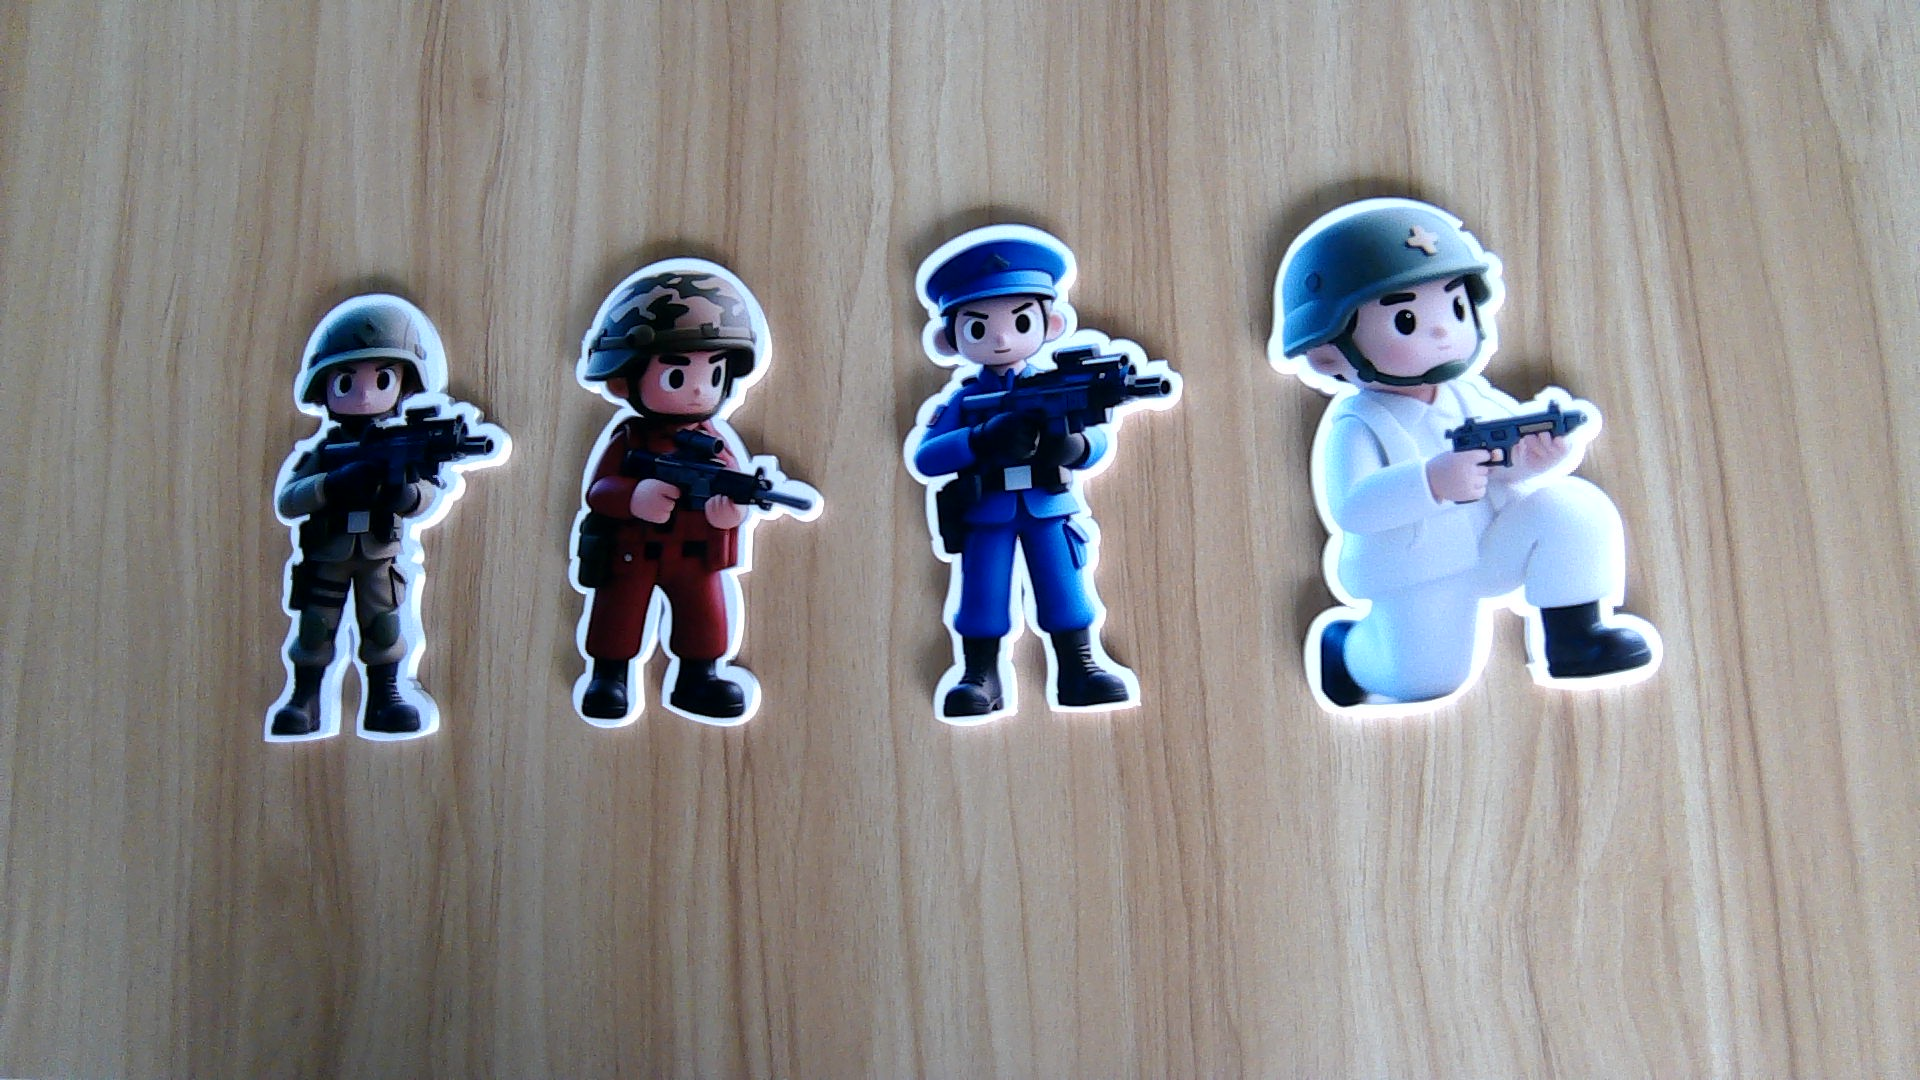人质: (1295, 382, 1669, 719)
友军: (257, 419, 485, 746)
敌人1: (556, 417, 806, 732)
敌人2: (893, 367, 1193, 727)
